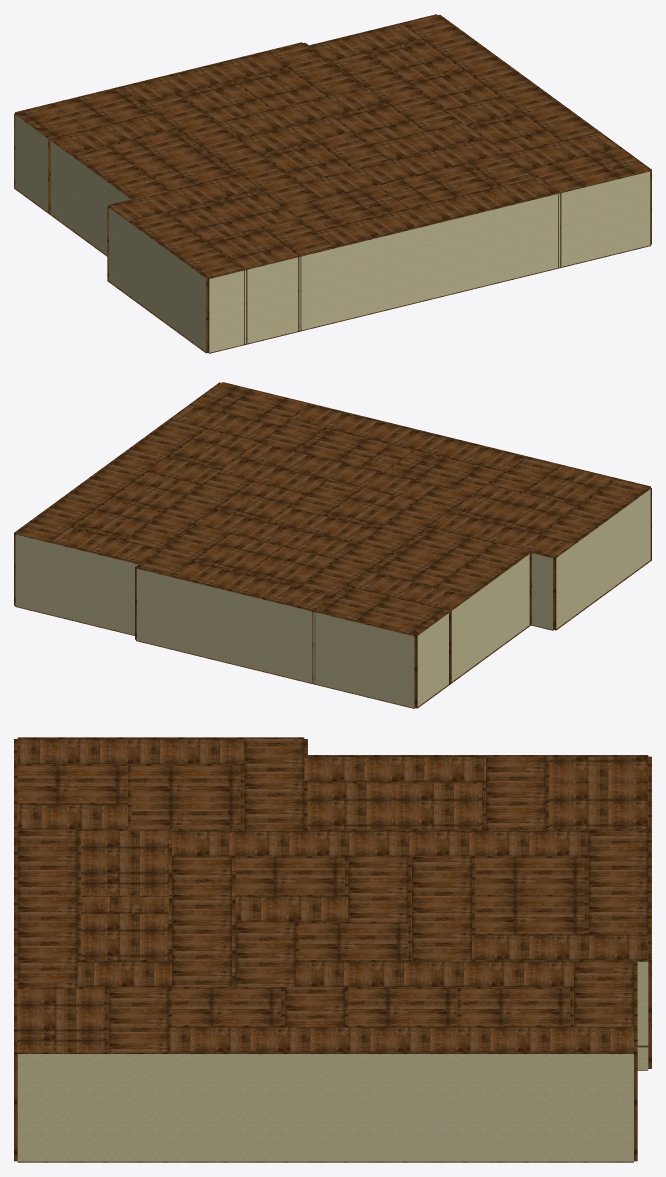
Rendered from Map.fbx.
3 renders of one model, top to bottom at view 1: azimuth 30°, elevation 25°; view 2: azimuth 150°, elevation 25°; view 3: azimuth 270°, elevation 25°, orthographic. The views are drawn at different scales.
Visible parts, largest first — view 1: Map_Ceiling, Map_Wall, Map_Floor; view 2: Map_Ceiling, Map_Wall, Map_Floor; view 3: Map_Ceiling, Map_Wall, Map_Floor.
Part boxes in pixels (left/top/right/bottom): Map_Ceiling: left=14, top=14, right=651, bottom=278; Map_Wall: left=14, top=39, right=651, bottom=353; Map_Floor: left=14, top=188, right=650, bottom=353; Map_Ceiling: left=14, top=382, right=651, bottom=636; Map_Wall: left=14, top=425, right=651, bottom=708; Map_Floor: left=15, top=560, right=651, bottom=708; Map_Ceiling: left=14, top=737, right=651, bottom=1053; Map_Wall: left=14, top=764, right=651, bottom=1161; Map_Floor: left=17, top=1070, right=648, bottom=1162.
Size of the model in its own units: 6242 by 1003 by 5318.
